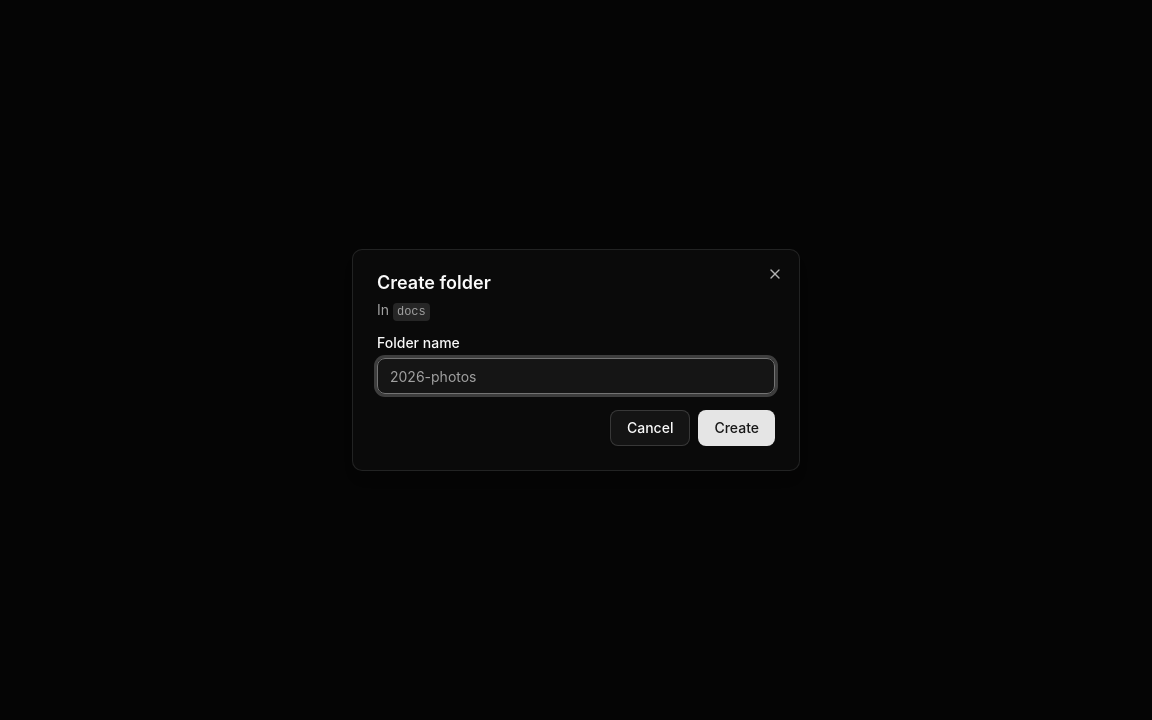
Scenario: CreateFolderDialog › shows the file-specific 409 message
Type "notes" into the field labelled "Folder name" at (576, 376), box [377,358,775,394]
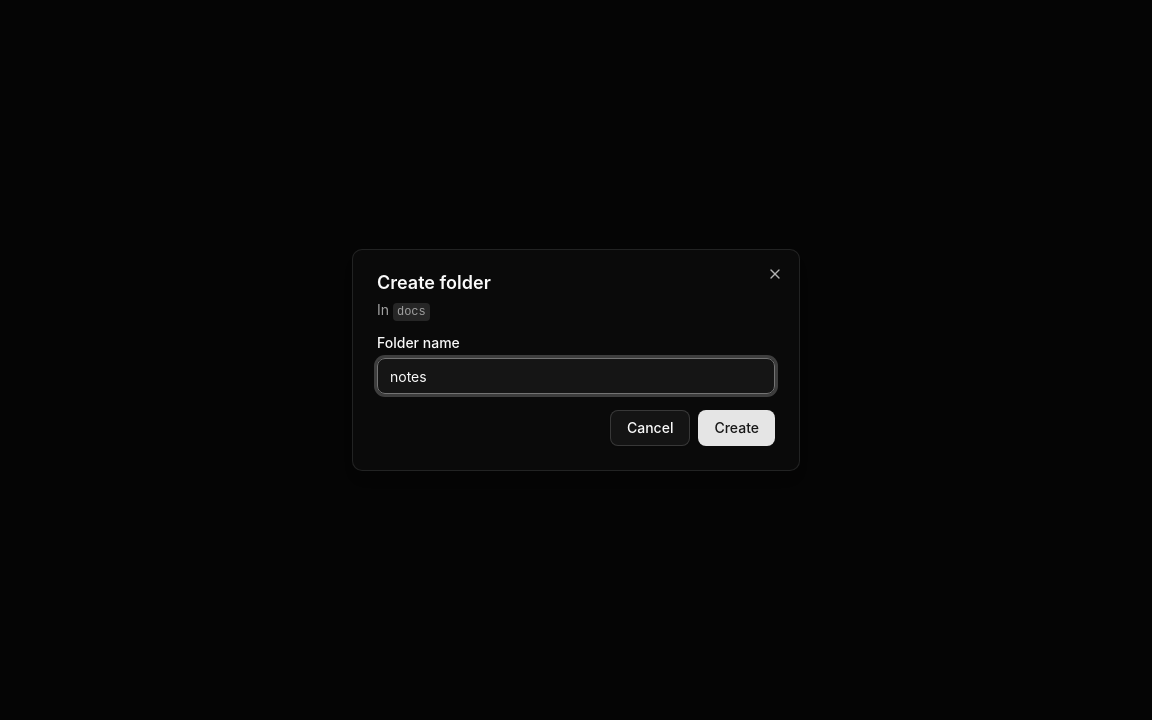
Click the button "Create" at (737, 428), box [698,410,775,446]
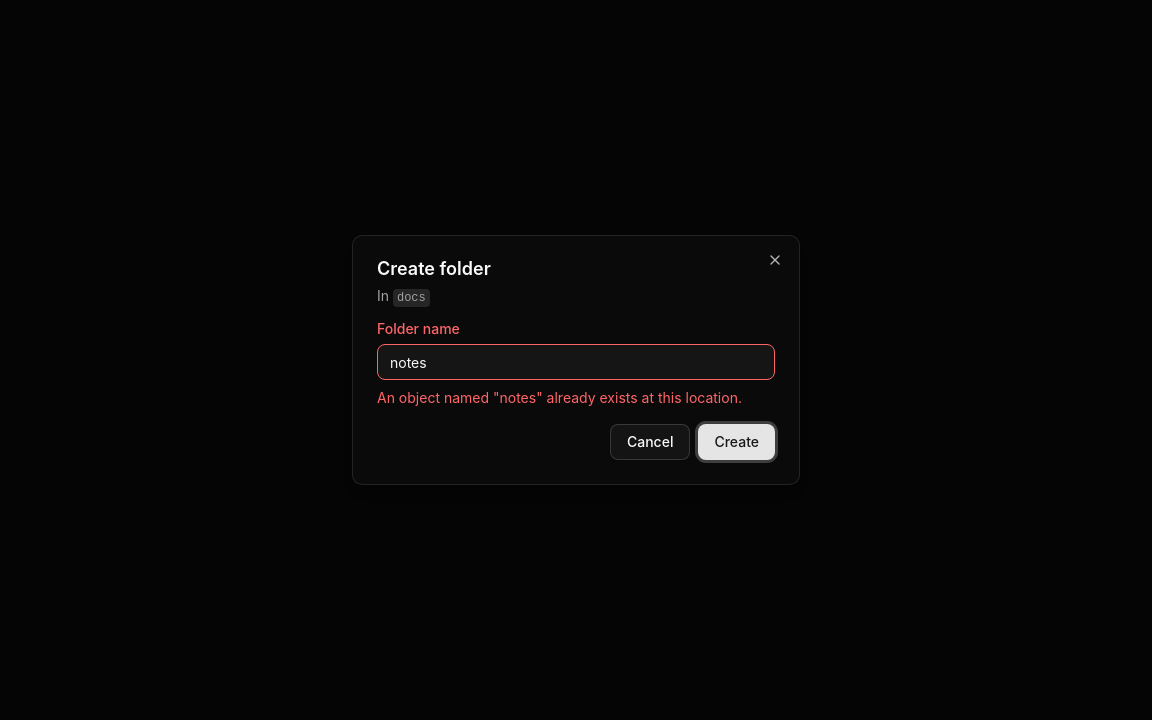
Expected: the text "An object named \"notes\" already exists at this location." is shown, [377,388,775,408]
